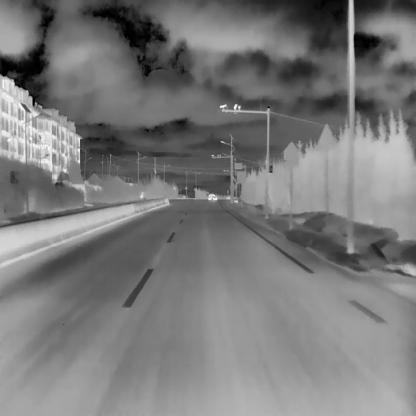car: (206, 190, 218, 200)
